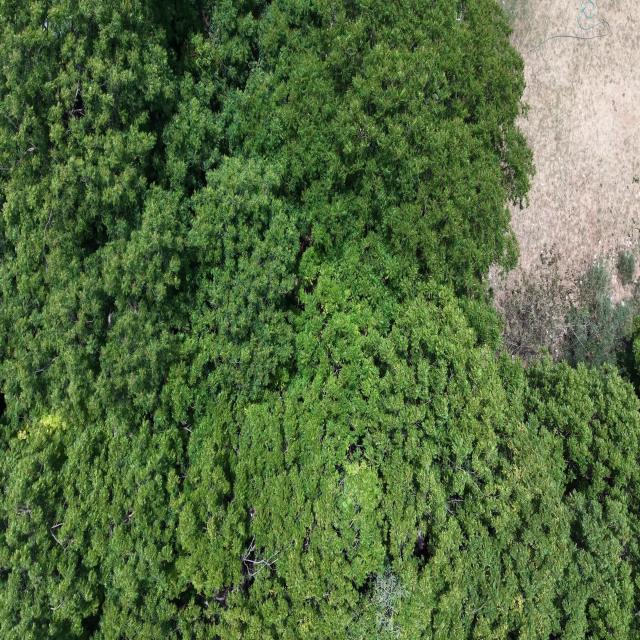DRY_AREA: (497, 0, 639, 272)
VEGETATION_TREE: (0, 0, 639, 639), (498, 248, 638, 379), (496, 247, 580, 362), (565, 263, 637, 365), (617, 251, 635, 285)
